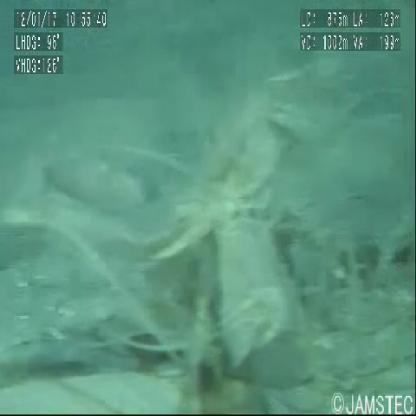Rác: (88, 77, 409, 385)
